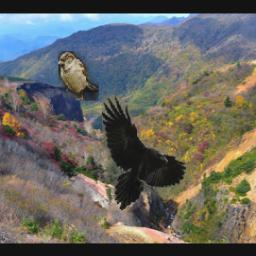Crow: (102, 95, 189, 210)
Sparrow: (58, 52, 99, 102)
